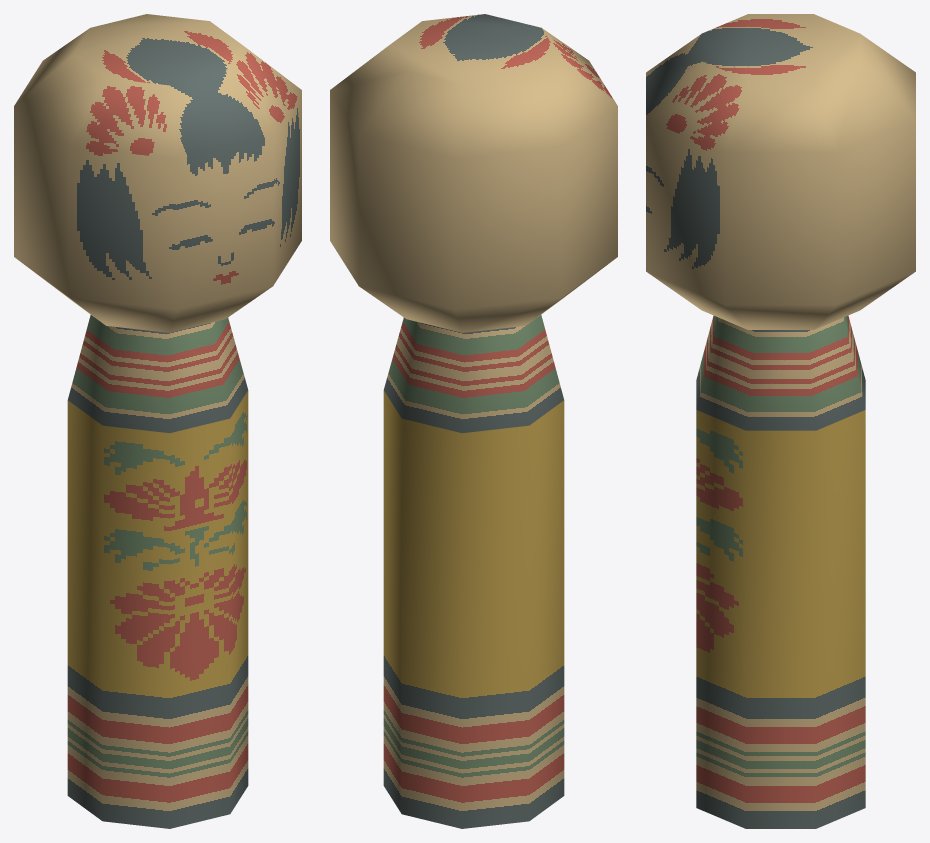
The model's file is 04a8_Big_Kokeshi.glb.
The picture shows the model from 3 angles, left to right: view 1: azimuth 30°, elevation 25°; view 2: azimuth 150°, elevation 25°; view 3: azimuth 270°, elevation 25°; orthographic projection.
Parts seen in each view (by area): view 1: part_0; view 2: part_0; view 3: part_0.
Part boxes in pixels (left/top/right/bottom): part_0: left=14, top=14, right=301, bottom=828; part_0: left=330, top=14, right=617, bottom=828; part_0: left=646, top=14, right=915, bottom=828.
Size of the model in its own units: 0.1443 by 0.44 by 0.1443.
1 material, 1 textured.
